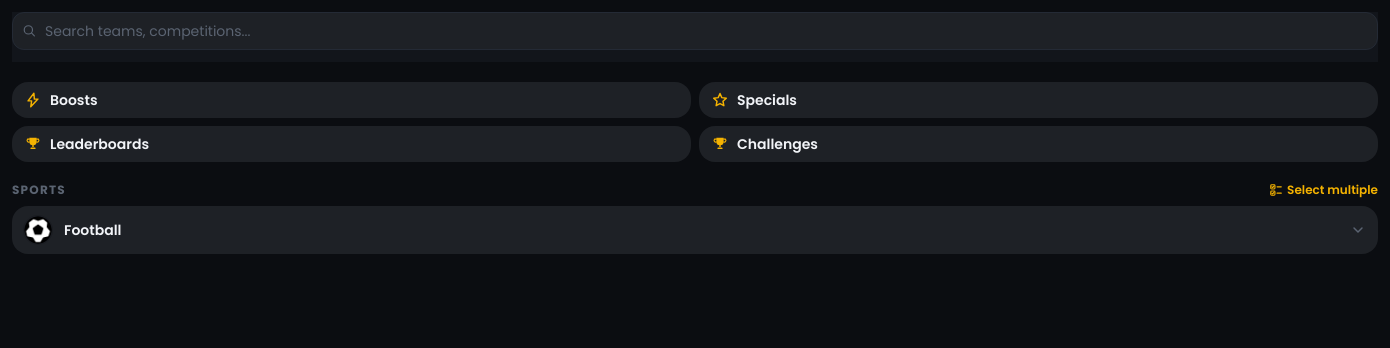
Test: Sidebar › shows a sport icon on each sport row and a flag icon on each expanded country row
Expected: the picture named "Football" is shown, 24,216 -> 52,244
Click the button "Football". click: click(93, 230)
box: 12,206 -> 1378,254
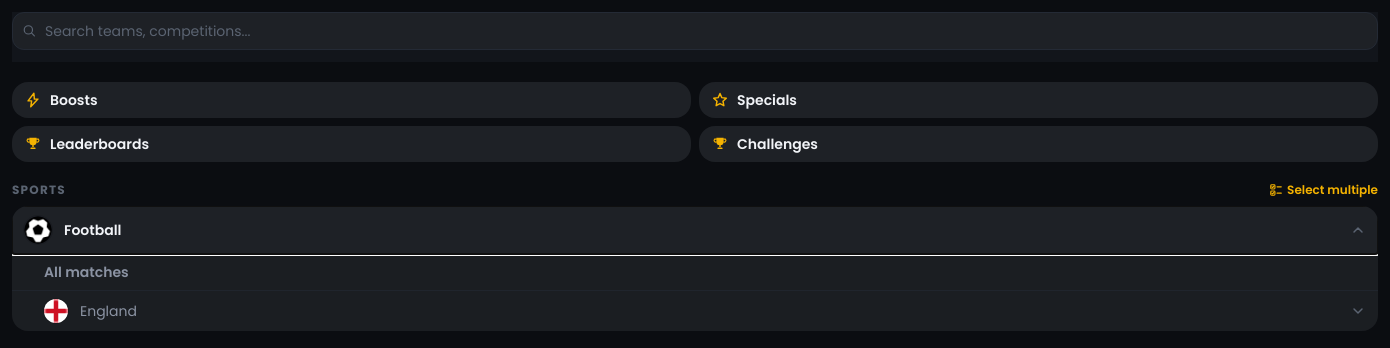
Expected: the picture named "England" is shown, 44,299 -> 68,323
